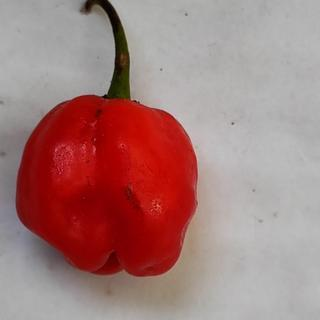Grade-B: (8, 89, 203, 281)
